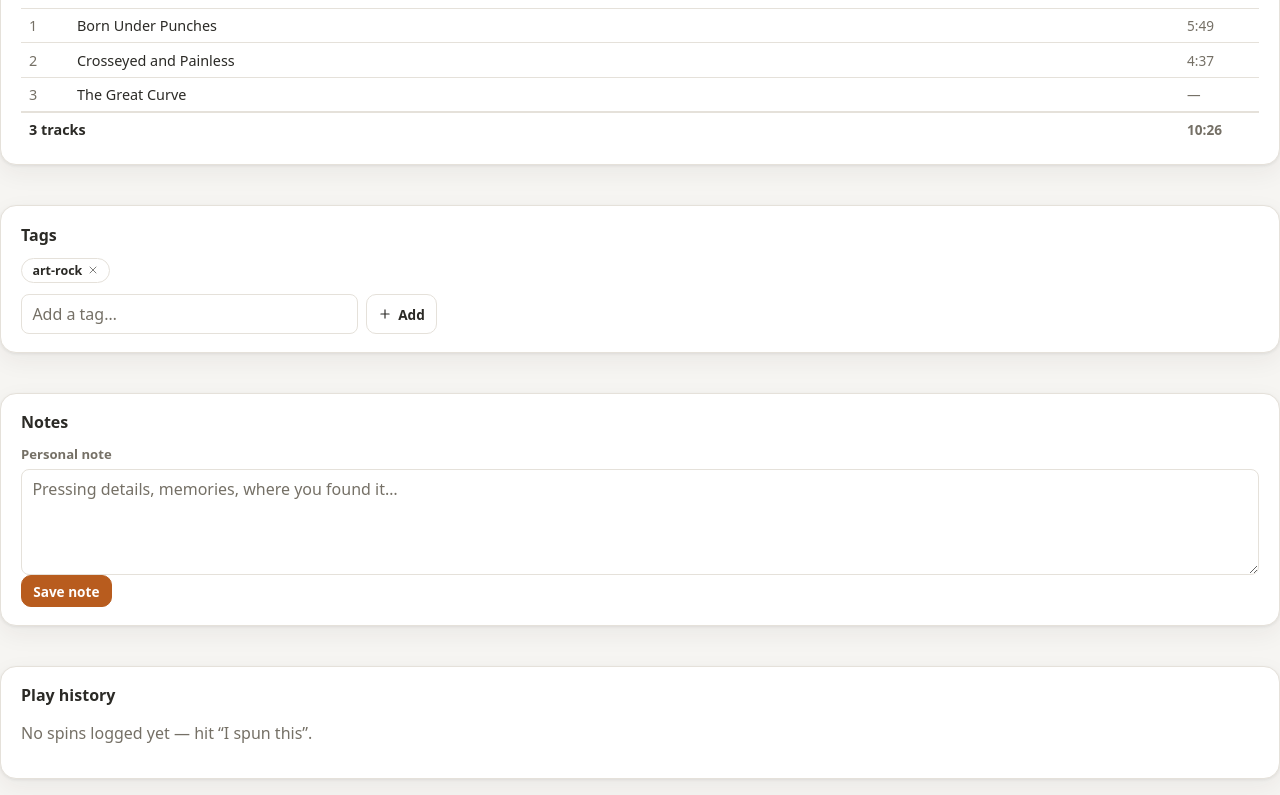
Scenario: AlbumDetailPage › saves a personal note
(page scrolled)
In the text box labelled "Personal note": (640, 522) 21,469 -> 1259,575, type "first pressing"
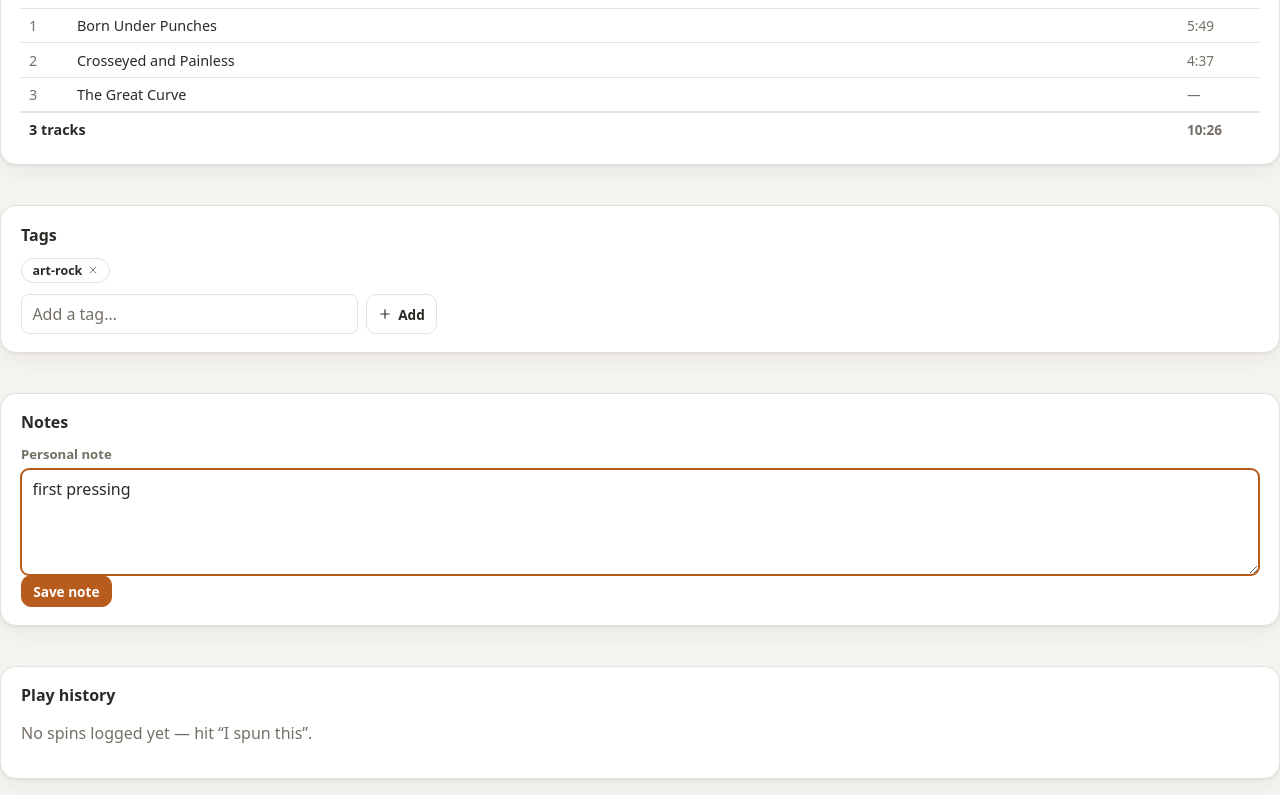
Click the button "Save note": (66, 591) 21,575 -> 112,607
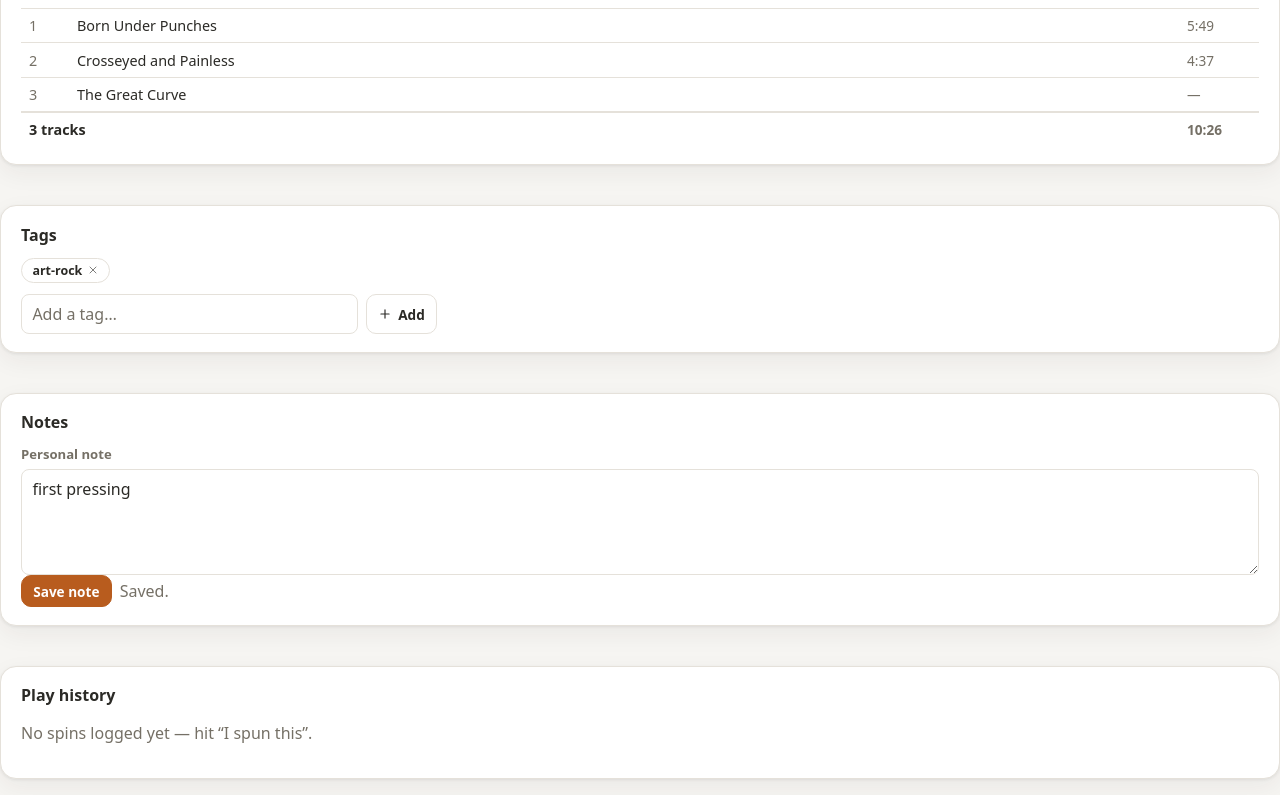
Now the text "Saved." is shown, box 120,580 -> 169,602
